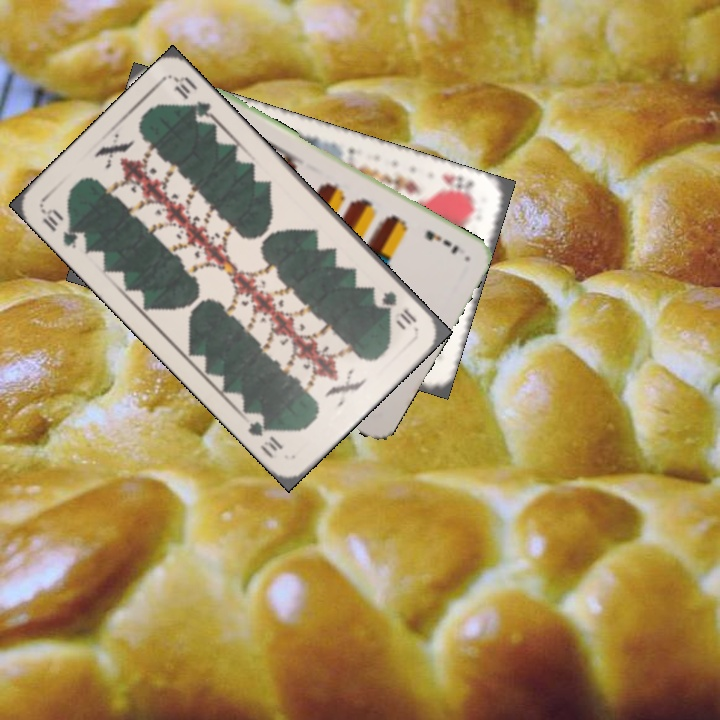E7: (421, 226, 461, 257)
G10: (38, 204, 90, 252), (377, 287, 420, 328)
HK: (438, 170, 478, 204)
